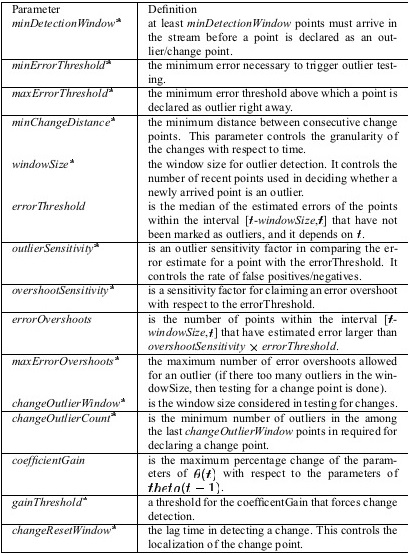column: (147, 1, 401, 554), (11, 2, 124, 554)
row: (1, 298, 409, 311), (1, 524, 409, 537), (1, 46, 410, 58), (1, 201, 410, 213), (1, 243, 410, 255), (1, 271, 410, 283), (1, 285, 410, 297), (1, 412, 410, 424), (1, 497, 410, 509), (1, 539, 410, 551), (1, 3, 410, 14), (1, 89, 410, 100), (1, 103, 410, 114), (1, 118, 410, 129), (1, 131, 410, 142), (1, 145, 410, 156), (1, 173, 410, 184), (1, 187, 410, 198), (1, 314, 410, 325), (1, 370, 410, 381), (2, 215, 410, 226), (1, 257, 409, 268), (1, 441, 409, 452), (1, 469, 409, 480), (1, 481, 407, 492), (1, 61, 410, 71), (1, 75, 410, 85), (1, 159, 410, 169), (1, 229, 410, 239), (1, 328, 410, 338), (1, 341, 410, 351), (1, 356, 410, 366), (1, 384, 410, 394), (1, 399, 410, 409), (1, 426, 409, 436), (1, 456, 409, 466), (1, 33, 410, 42), (1, 19, 410, 27), (1, 512, 410, 520)
